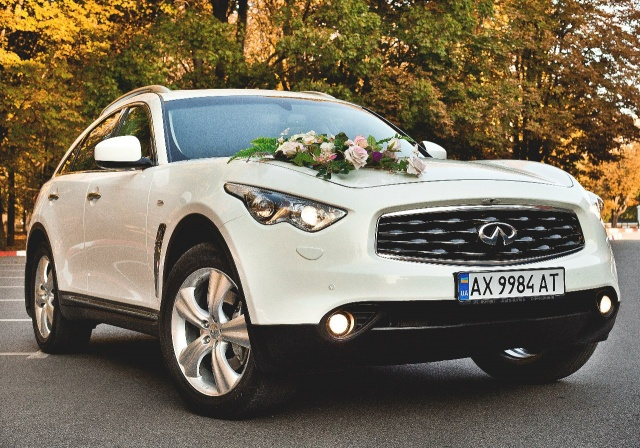car: (22, 83, 621, 420)
plate: (454, 267, 567, 301)
